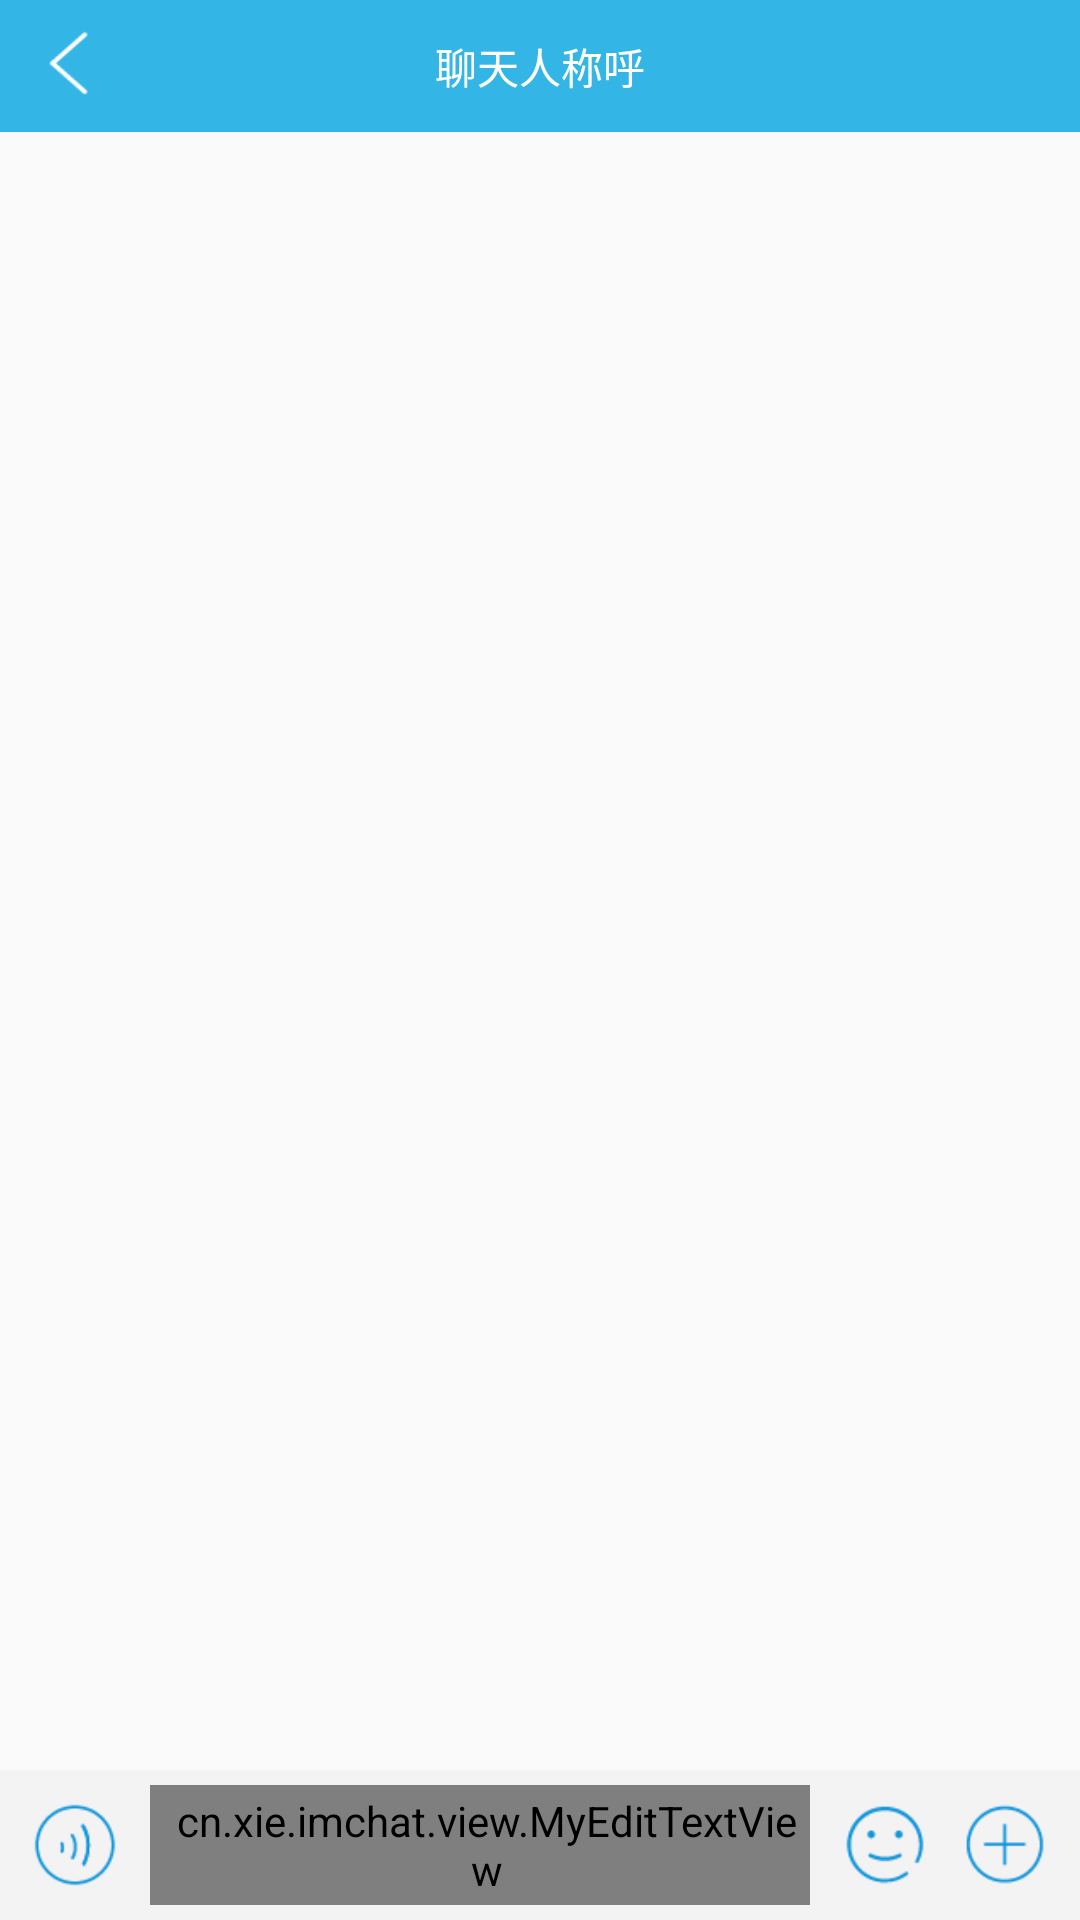

Screen size 1080px x 1920px. Icon name, then its center in pixels as [x,y]:
back: [68,63]
emotion: [885,1845]
more: [1005,1844]
voice: [75,1845]
